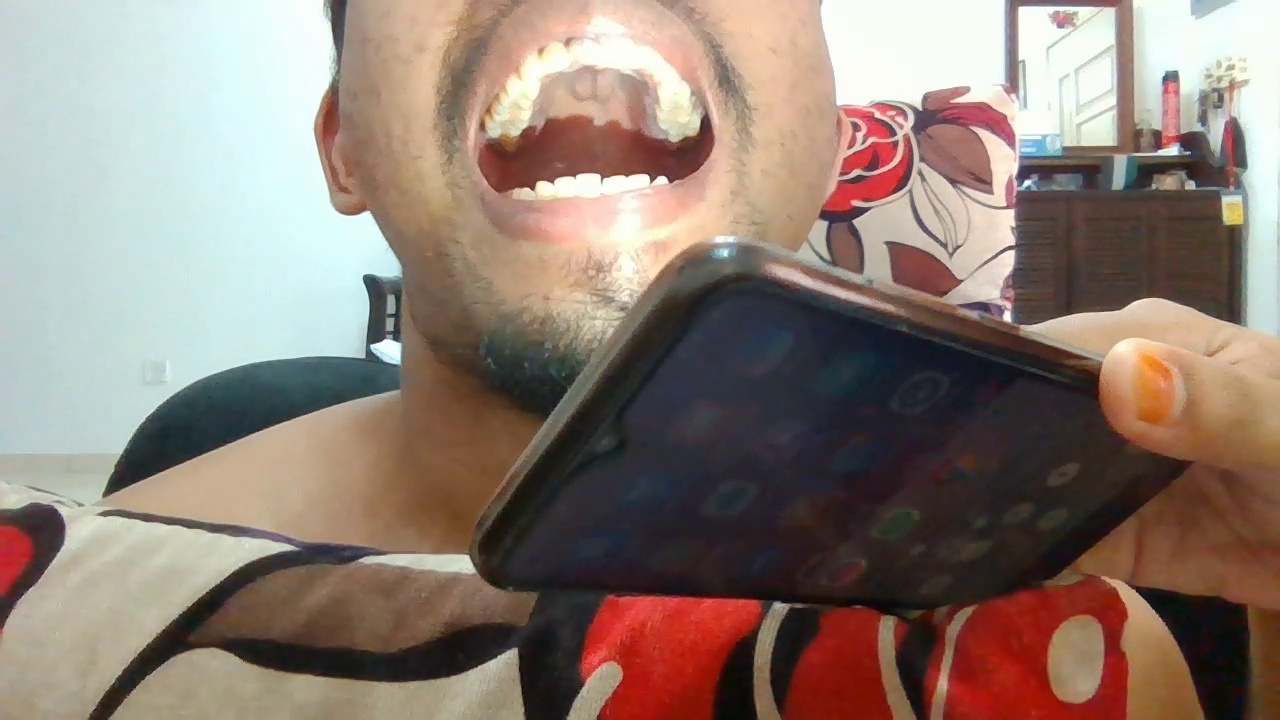1st Molar: (656, 81, 692, 107), (491, 107, 535, 120)
1st Premolar: (506, 76, 540, 97), (519, 187, 534, 200)
2nd Molar: (653, 107, 692, 128), (486, 114, 530, 130)
2nd Premolar: (499, 94, 539, 108)
3rd Molar: (669, 121, 706, 140), (482, 130, 525, 139)
Canine: (519, 52, 540, 83), (534, 180, 554, 201), (652, 173, 671, 186)
Central Incisor: (569, 36, 601, 68), (577, 172, 603, 196), (603, 173, 627, 194)
Lateral Incisor: (540, 44, 569, 74), (554, 176, 577, 199), (626, 171, 651, 191)
